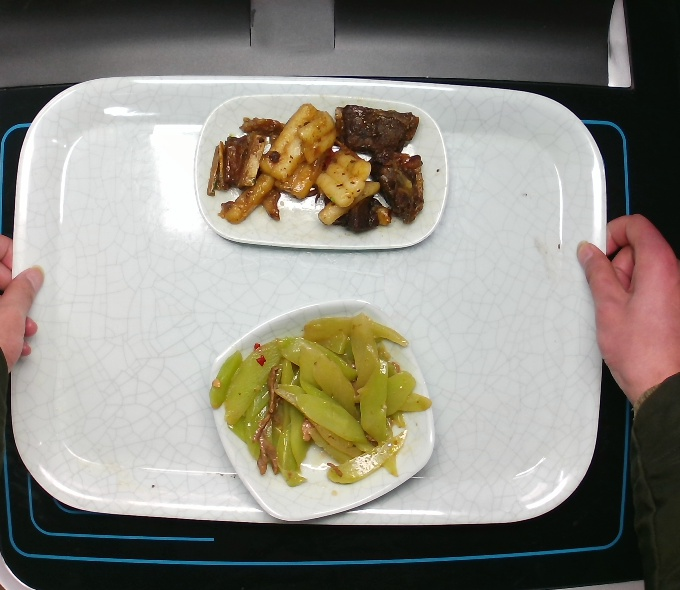wcq-NianGaoZaiPai: (209, 99, 434, 242)
wcq-WoSun: (208, 311, 440, 489)
